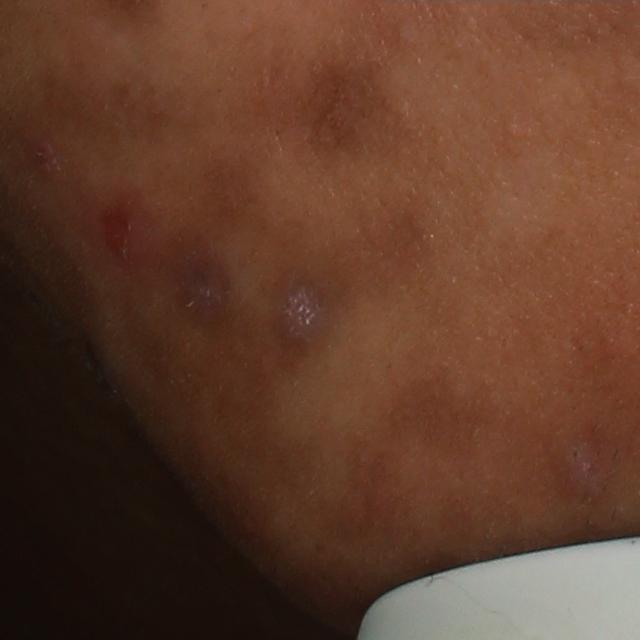papule: (93, 201, 143, 272)
